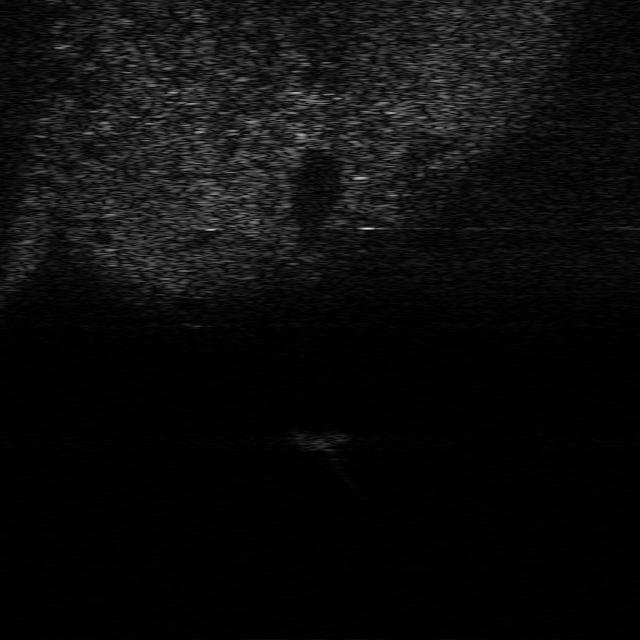cube: (285, 428, 353, 452)
